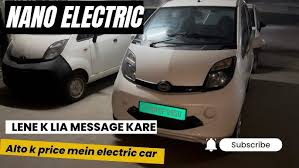Nano: (118, 1, 255, 147)
